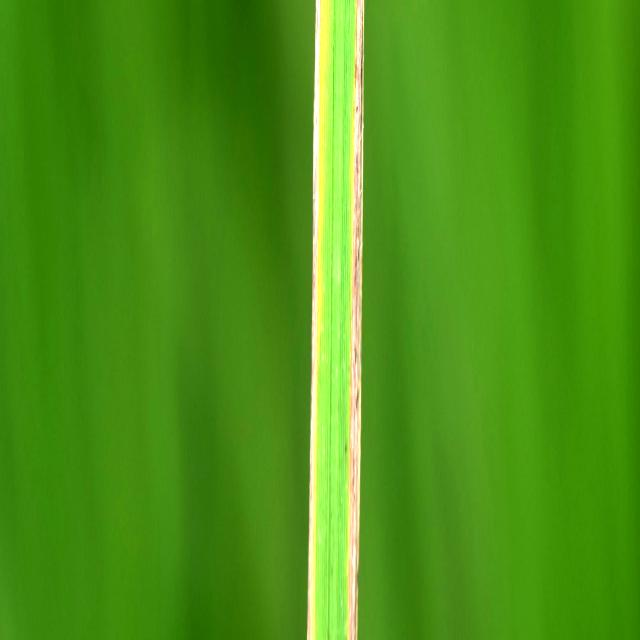BLB: (307, 0, 323, 636), (348, 0, 363, 635)
